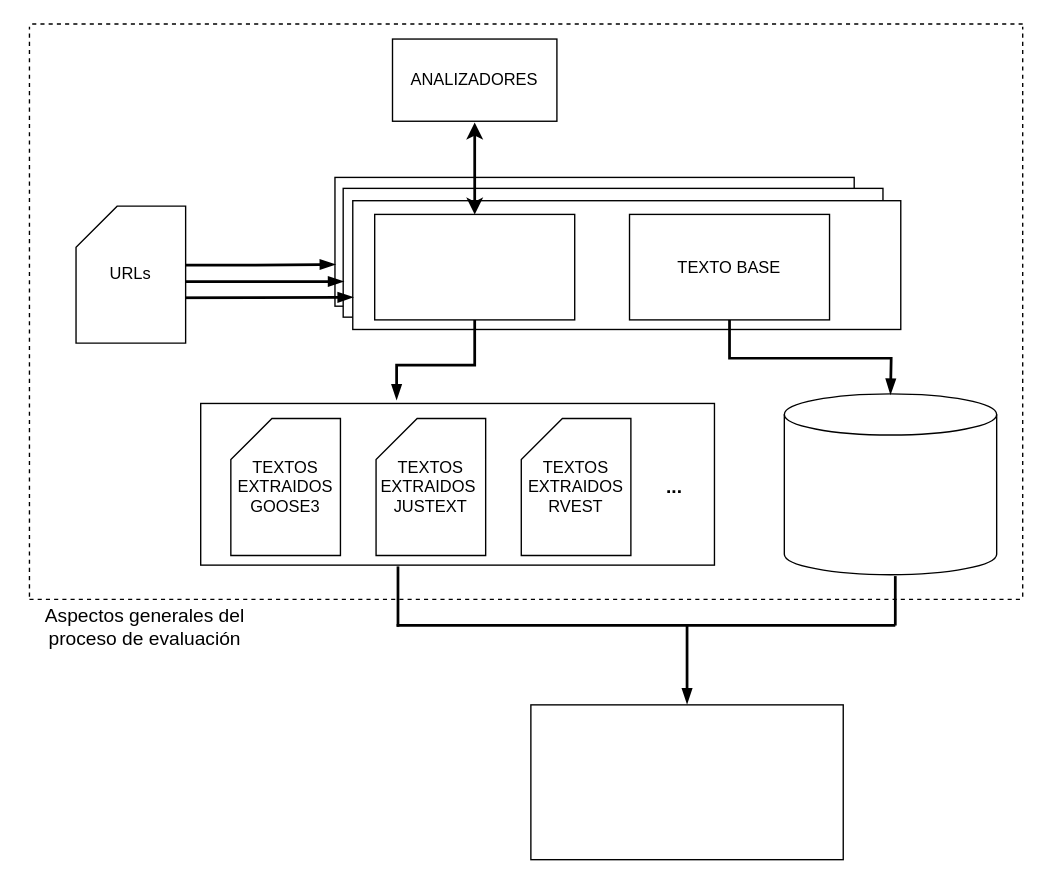
This 1052x884 diagram has some shape labels left out. The shapes that lost their labels are listed below. From the top down, each one's box as (x1, y1, x2, y2) in pixels, then its label:
(373, 213, 575, 320): ALGORTIMOS DE EXTRACCIÓN
(783, 393, 997, 575): TEXTOS EXTRAIDOS MANUALMENTE TEXTO BASE
(530, 703, 843, 860): HERRAMIENTA DE EVALUACIÓN
